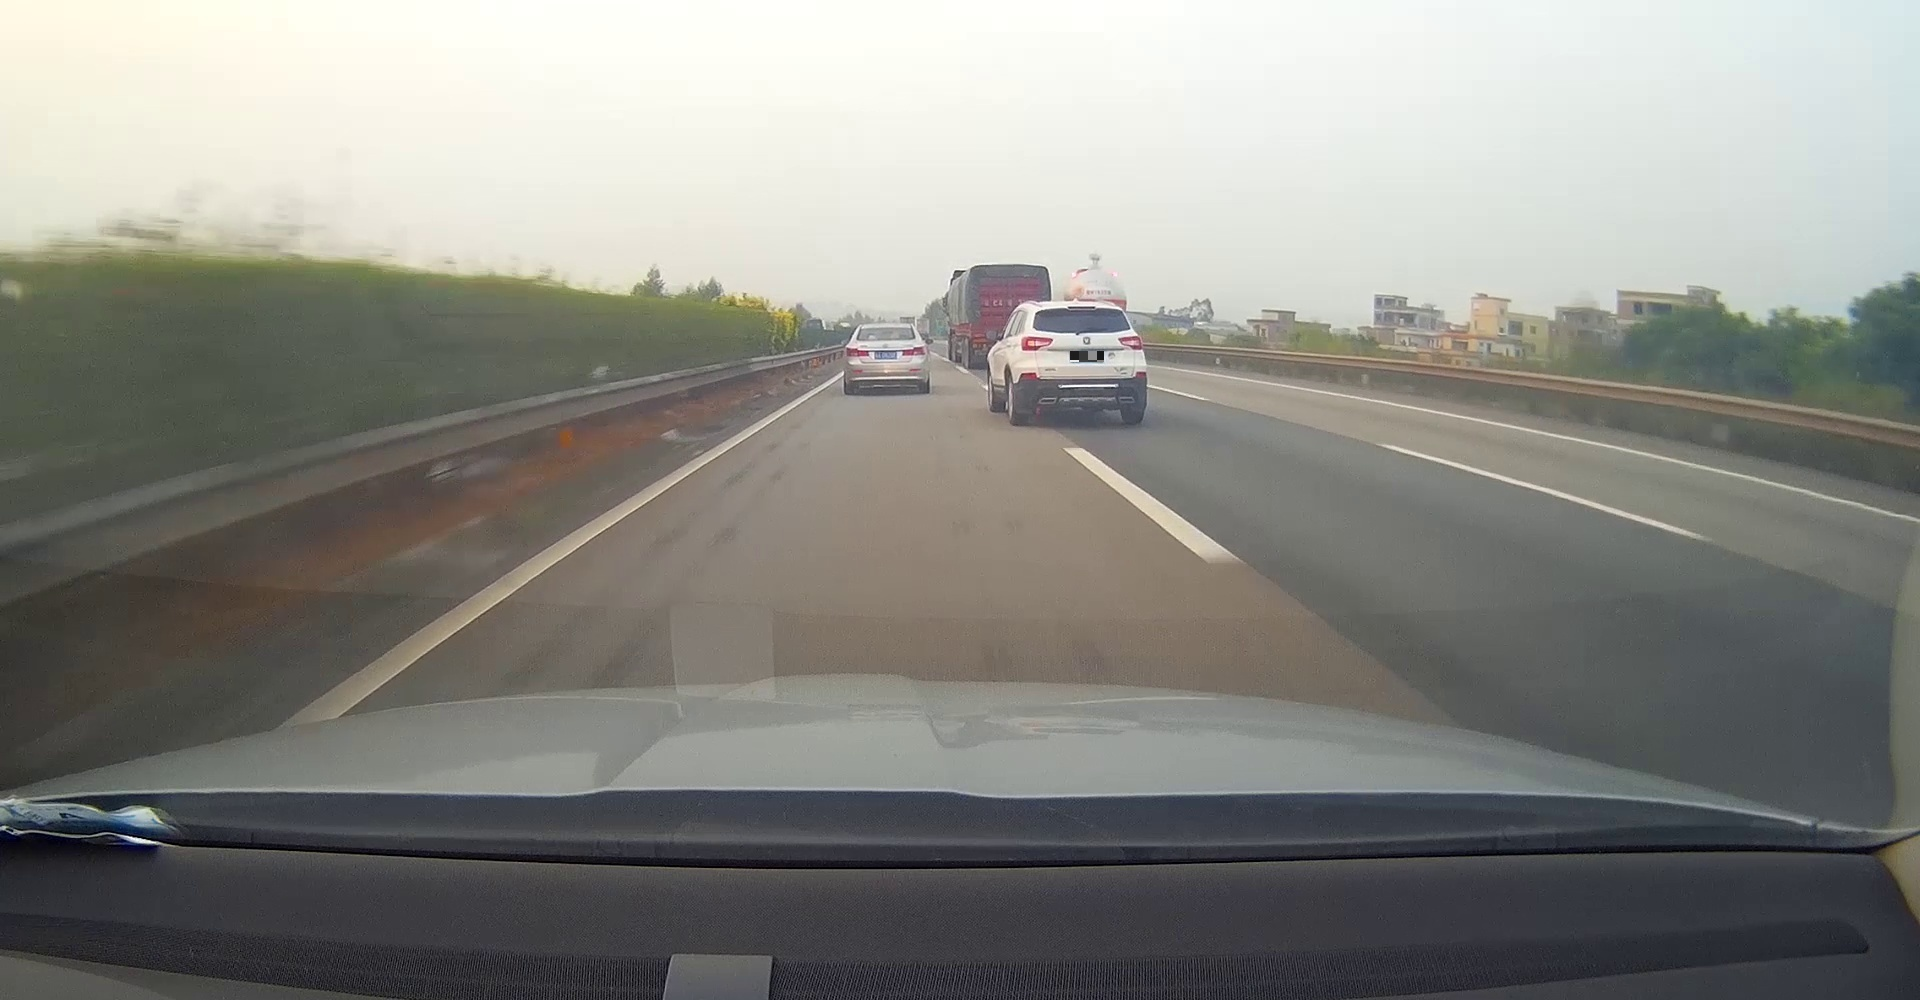L_light: (1021, 336, 1053, 350), (846, 346, 869, 357)
R_light: (1117, 336, 1143, 350), (902, 346, 924, 357)
T_light: (1068, 306, 1095, 311), (881, 327, 893, 330)
day-no: (1018, 303, 1147, 424), (844, 324, 930, 393)
plate_1: (1070, 352, 1103, 362)
